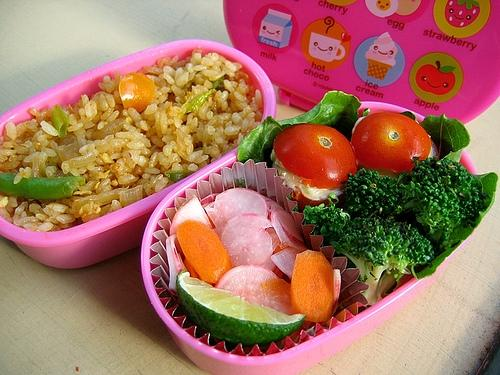apple: (416, 60, 456, 95)
broccoli: (304, 197, 435, 304), (400, 157, 484, 246), (342, 166, 401, 224)
carrot: (176, 219, 232, 284), (290, 250, 334, 323), (119, 72, 156, 112), (261, 278, 291, 306)
lime: (176, 269, 307, 346)
radish: (215, 264, 294, 315), (204, 187, 269, 227), (220, 222, 273, 268), (170, 195, 214, 236), (270, 208, 308, 252), (270, 247, 304, 280), (166, 234, 182, 297), (333, 269, 341, 307)
tomato: (274, 123, 356, 188), (350, 112, 431, 174), (277, 170, 347, 213)
